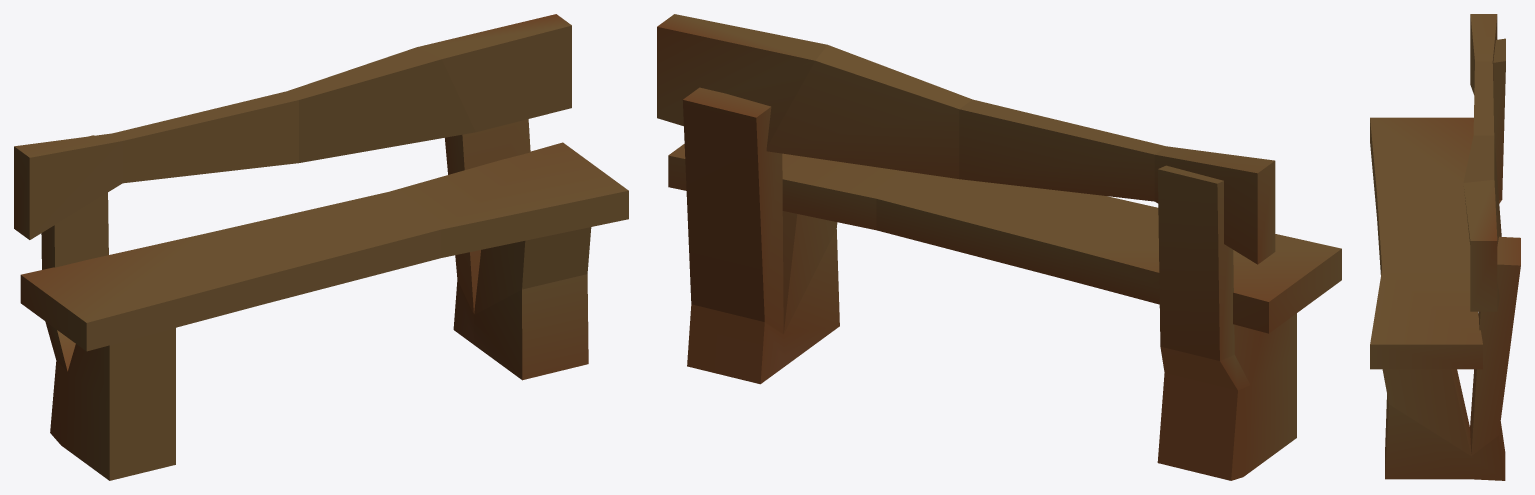
Rendered from BancoB.fbx.
3 renders of one model, left to right at view 1: azimuth 30°, elevation 25°; view 2: azimuth 150°, elevation 25°; view 3: azimuth 270°, elevation 25°, orthographic. The views are drawn at different scales.
Parts seen in each view (by area): view 1: LOD_0; view 2: LOD_0; view 3: LOD_0.
Boxes of the visible parts, x1,y1,x2,y2 form: LOD_0: [14, 14, 628, 480]; LOD_0: [657, 14, 1341, 480]; LOD_0: [1370, 14, 1520, 480].
Size of what is drawn, in the model's own units: 106 by 55.45 by 29.68.
